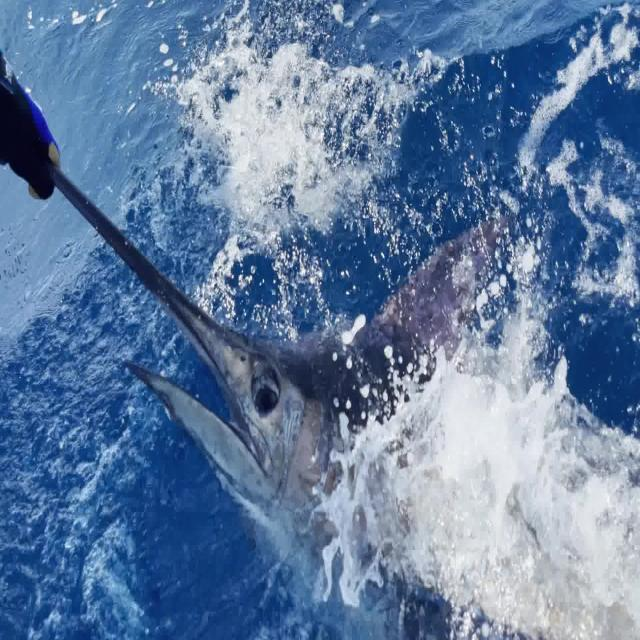Liberacion segura: (47, 161, 640, 639)
